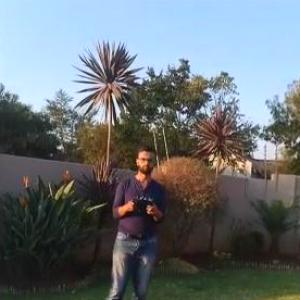follow: (102, 142, 168, 299)
